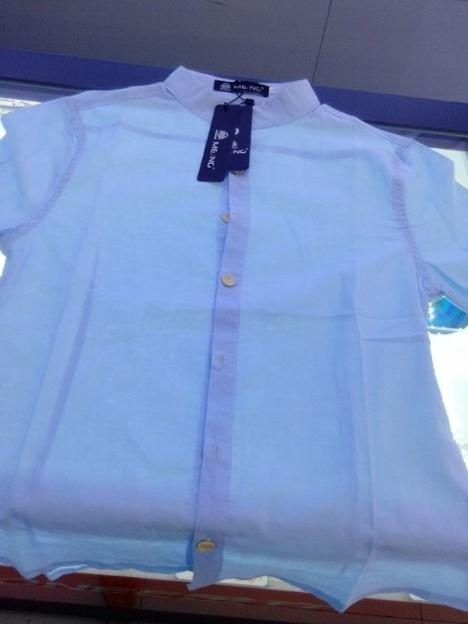S_shirt: (3, 67, 468, 612)
